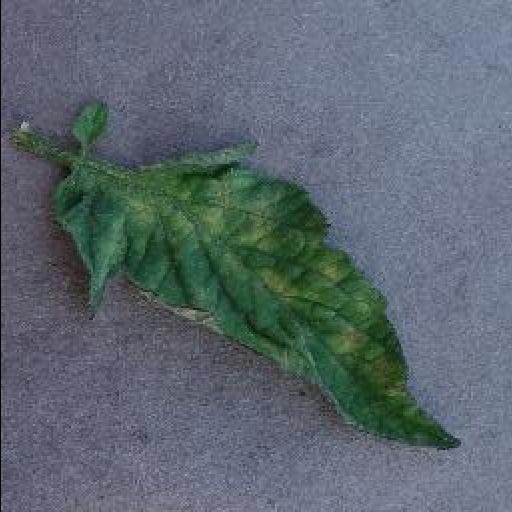disease_tomato: (50, 138, 466, 451)
